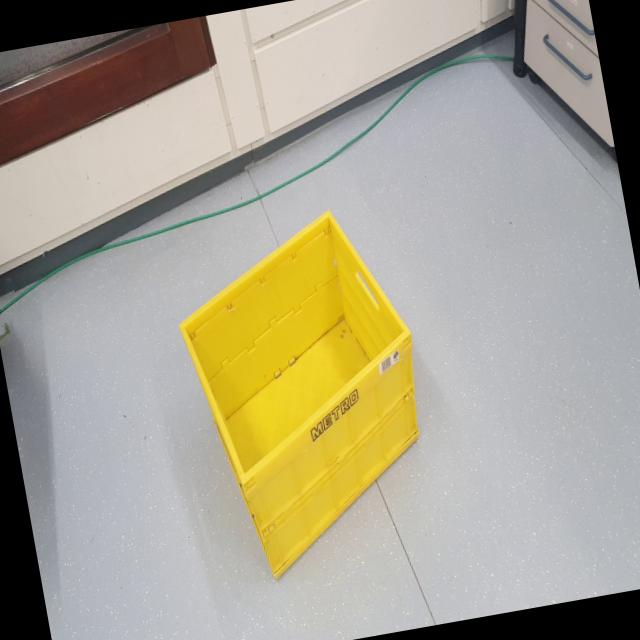box: (158, 192, 458, 617)
